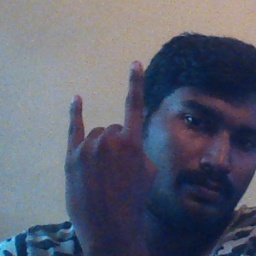V: (62, 55, 161, 226)
